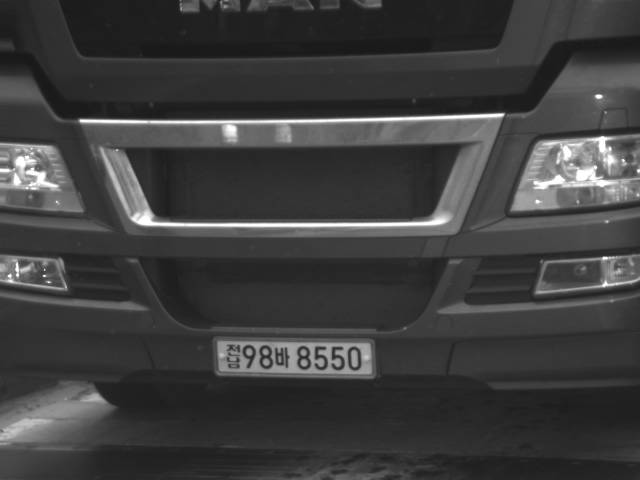car: (1, 1, 639, 408)
plate: (211, 337, 378, 378)
